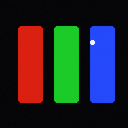0 point: (90, 40, 94, 44)
